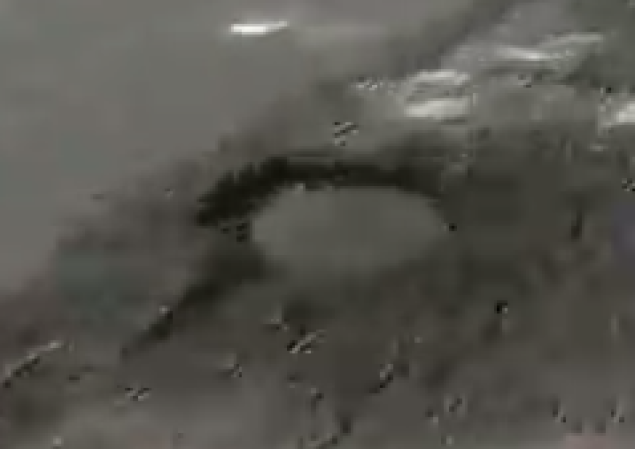Berlubang: (146, 134, 526, 353)
